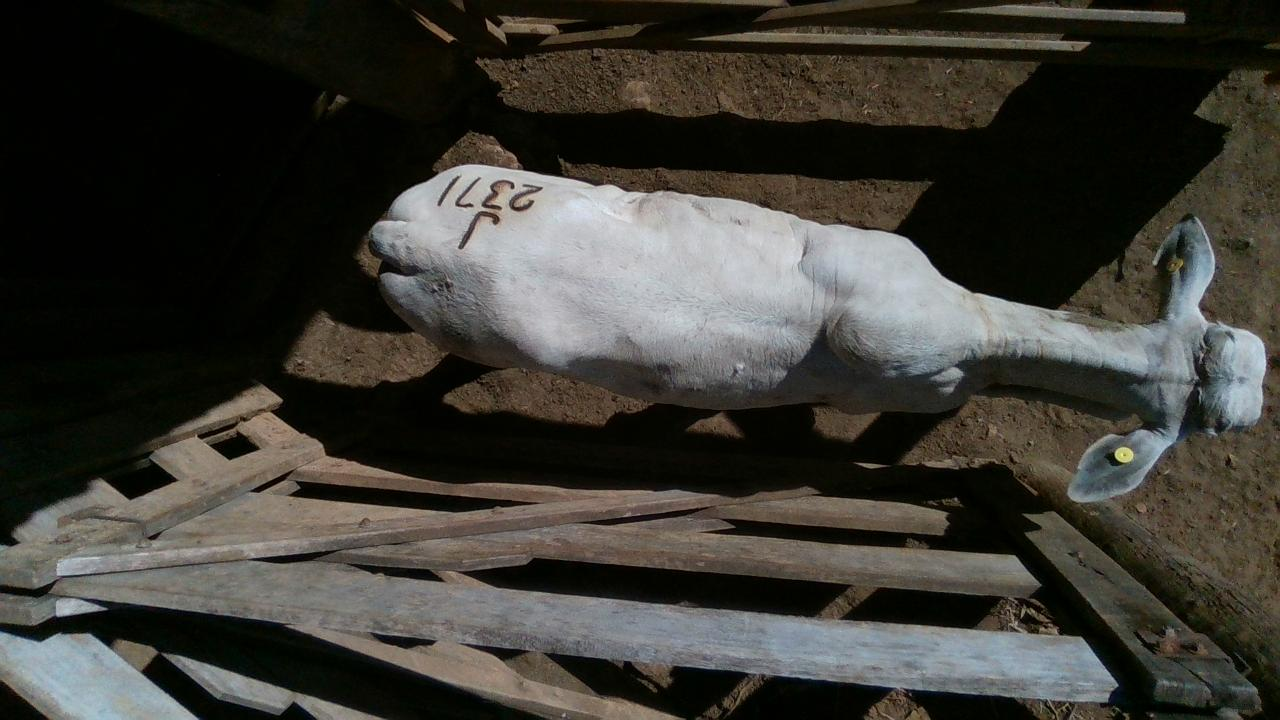cattle: (366, 160, 1267, 503)
